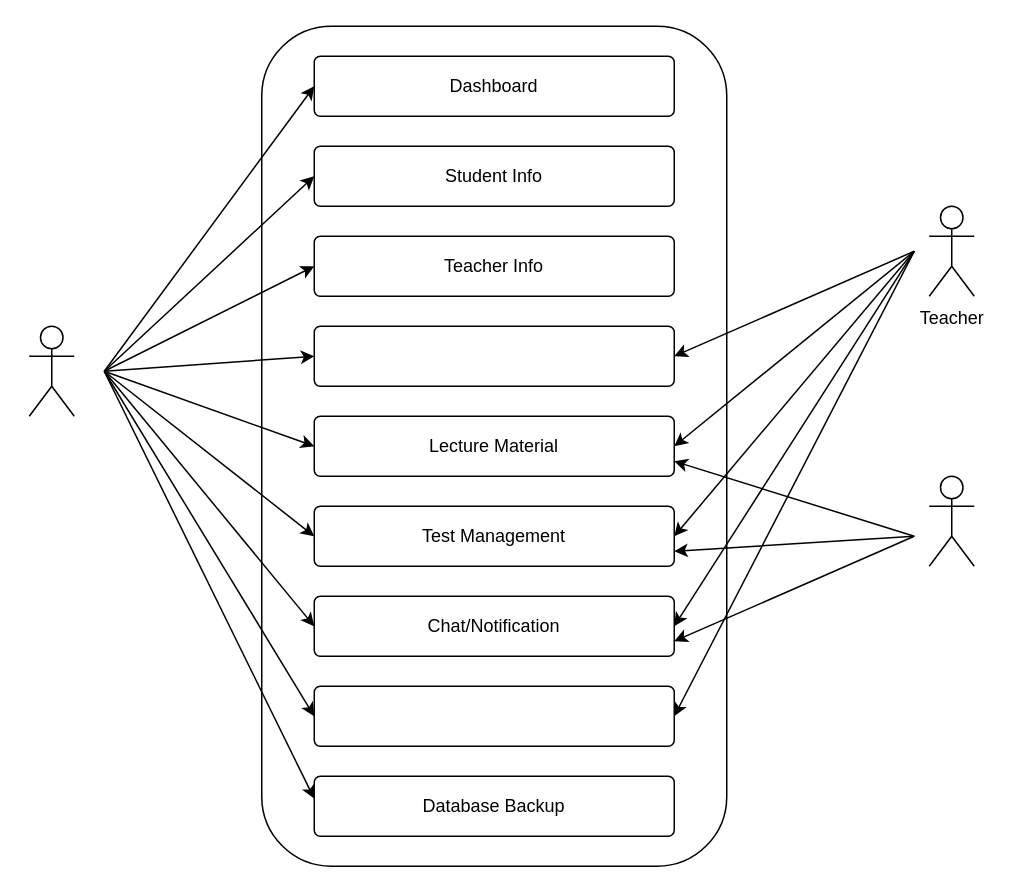
Some shapes in this 1031 by 893 pixel diagram are drawn without their labels. Here are the shapes that lost their labels. From the top down, the box of each, then its label:
(28, 325, 74, 416): Admin
(313, 325, 674, 386): Teacher Load
(928, 475, 974, 566): Student
(313, 685, 674, 746): Reports
